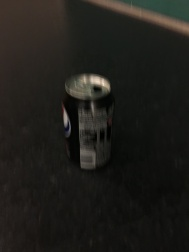can_black: (55, 72, 124, 175)
